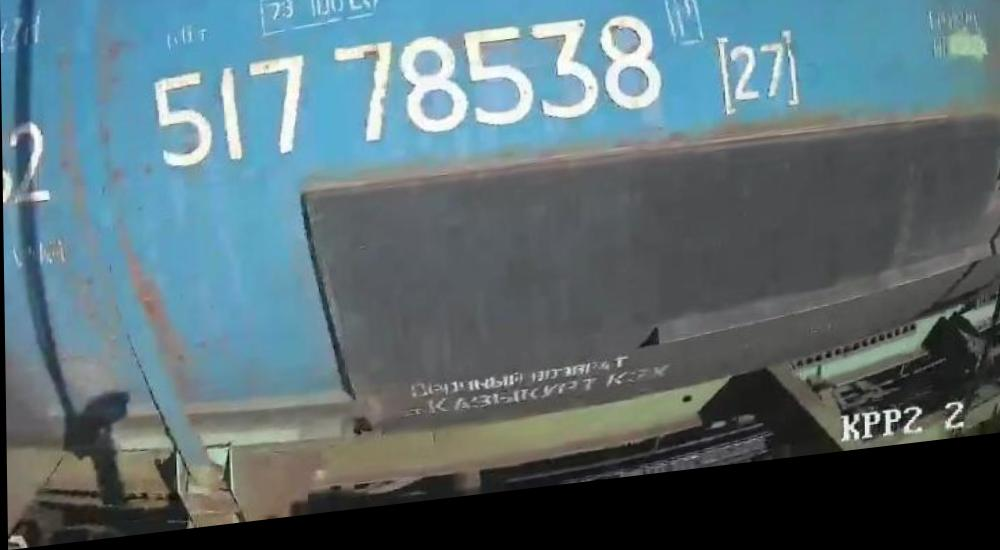Wagon-number: (147, 17, 667, 180)
